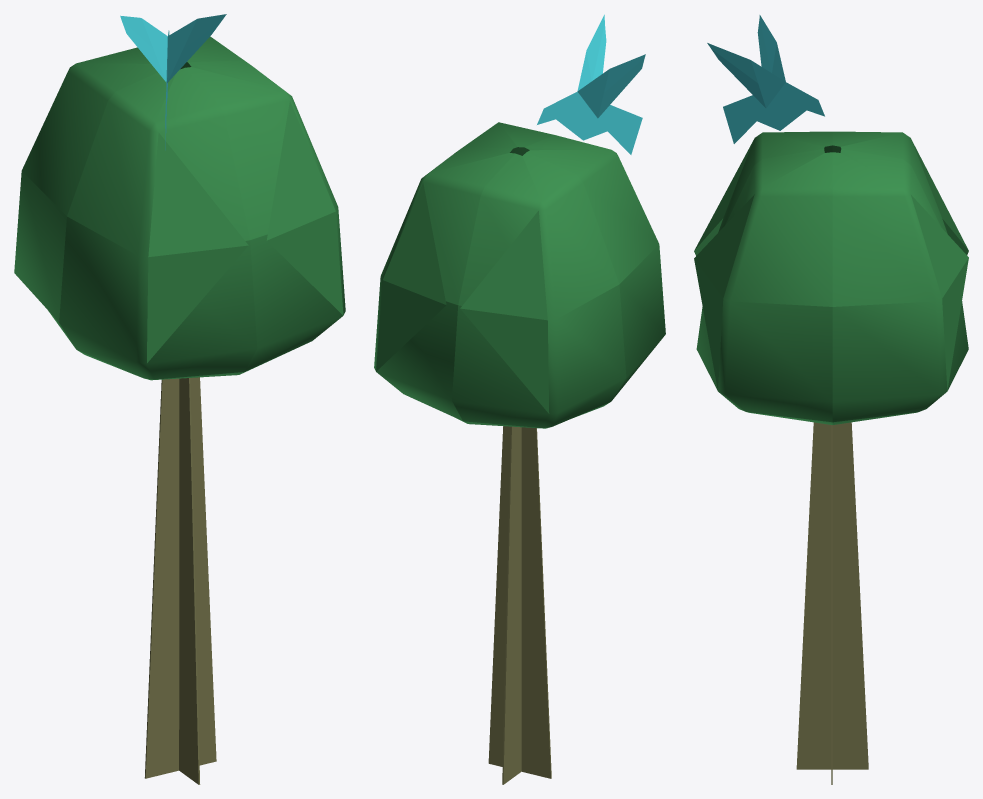
The model's file is TreeSquare_Big_BIRD.fbx.
The picture shows the model from 3 angles, left to right: view 1: azimuth 30°, elevation 25°; view 2: azimuth 150°, elevation 25°; view 3: azimuth 270°, elevation 25°; orthographic projection. The views are drawn at different scales.
Visible parts, largest first — view 1: TREE_MEDIUM_SQUARE_BIRD.001; view 2: TREE_MEDIUM_SQUARE_BIRD.001; view 3: TREE_MEDIUM_SQUARE_BIRD.001.
Boxes of the visible parts, x1,y1,x2,y2 form: TREE_MEDIUM_SQUARE_BIRD.001: (14,14,345,784); TREE_MEDIUM_SQUARE_BIRD.001: (374,14,665,784); TREE_MEDIUM_SQUARE_BIRD.001: (694,15,968,784).
Bounding box in the file's own units: 587 × 1890 × 657.
